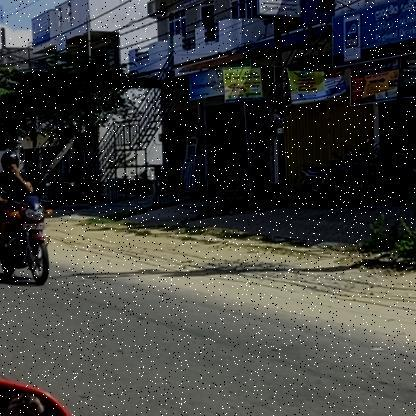motorcycle: (0, 194, 52, 286)
